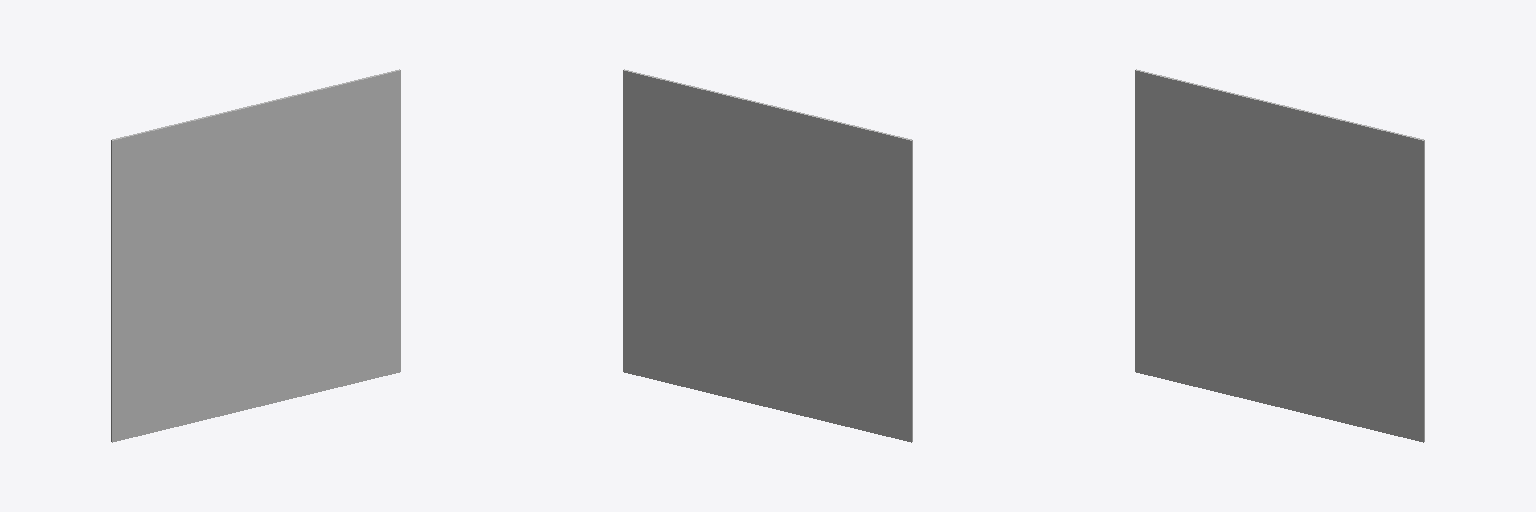
Rendered from base_tag.obj.
The picture shows the model from 3 angles: view 1: azimuth 30°, elevation 25°; view 2: azimuth 150°, elevation 25°; view 3: azimuth 330°, elevation 25°; orthographic projection.
Parts seen in each view (by area): view 1: Cube.001, Cube, Cube.003, Cube.002; view 2: Cube.001, Cube, Cube.003, Cube.002; view 3: Cube.003, Cube.002, Cube.001, Cube.
Boxes of the visible parts, x1,y1,x2,y2 form: Cube.001: [111, 105, 256, 291]; Cube: [111, 257, 256, 442]; Cube.003: [256, 69, 400, 255]; Cube.002: [257, 221, 400, 406]; Cube.001: [767, 105, 912, 291]; Cube: [767, 257, 912, 442]; Cube.003: [623, 69, 767, 255]; Cube.002: [623, 221, 766, 406]; Cube.003: [1279, 105, 1424, 291]; Cube.002: [1279, 257, 1424, 442]; Cube.001: [1135, 69, 1279, 255]; Cube: [1135, 221, 1278, 406].
Size of the model in its own units: 0.12 by 0.12 by 0.001.